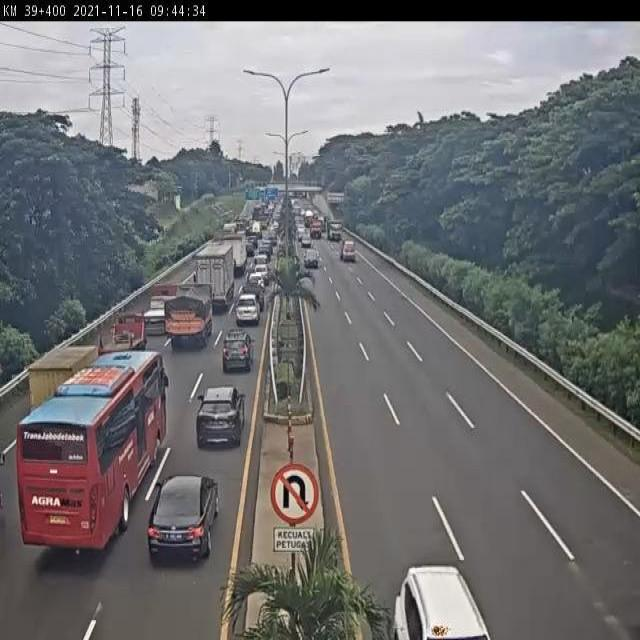big bus: (19, 353, 168, 547)
car: (392, 561, 489, 640), (148, 478, 218, 558), (197, 385, 243, 447), (223, 329, 253, 375), (236, 295, 258, 325), (242, 284, 265, 307), (247, 270, 266, 290)
small truck: (12, 345, 96, 423), (96, 315, 147, 369), (137, 286, 176, 338)
truck-l-: (195, 243, 237, 308)
truck-m-: (162, 289, 210, 348), (222, 236, 248, 272)
